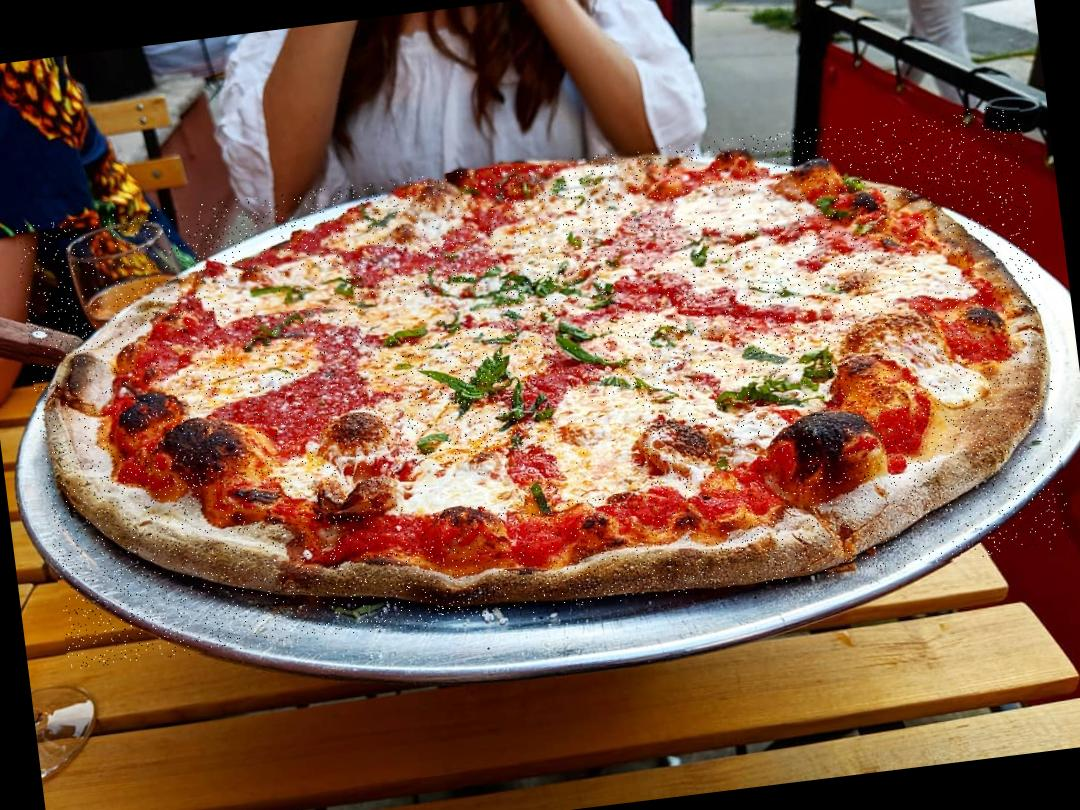Arugula: (714, 370, 830, 418), (426, 356, 514, 412), (502, 266, 574, 304), (554, 316, 596, 368)
Cheese: (620, 297, 800, 387), (682, 231, 874, 309), (550, 386, 648, 500), (512, 167, 624, 256), (173, 343, 310, 405), (358, 286, 504, 341), (388, 408, 508, 470), (400, 458, 521, 516), (674, 182, 798, 238), (226, 268, 350, 318), (344, 204, 454, 252), (872, 250, 960, 301)
Pizza: (14, 104, 1073, 670)
